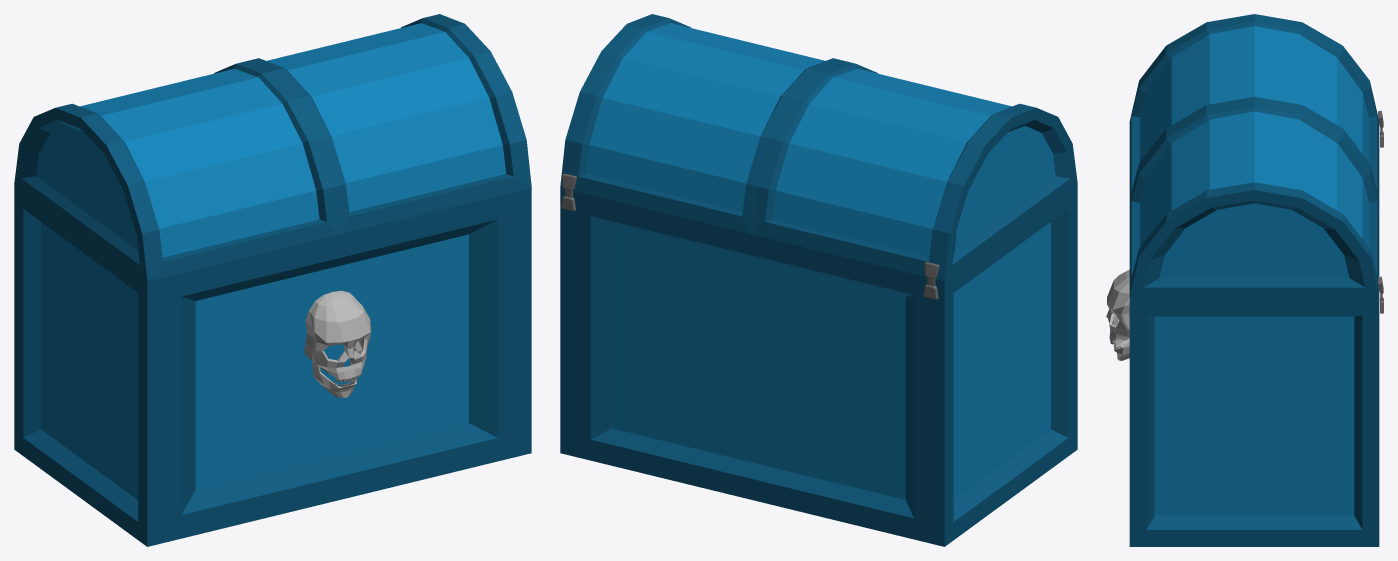
File: chest_type_02.fbx
3 renders of one model, left to right at view 1: azimuth 30°, elevation 25°; view 2: azimuth 150°, elevation 25°; view 3: azimuth 270°, elevation 25°, orthographic. The views are drawn at different scales.
Visible parts, largest first — view 1: chest_type_02; view 2: chest_type_02; view 3: chest_type_02.
Part boxes in pixels (x1,y1,x2,y2): chest_type_02: (14,14,531,546); chest_type_02: (560,14,1077,546); chest_type_02: (1106,14,1383,546).
Bounding box in the file's own units: 60 × 56.76 × 40.02.
